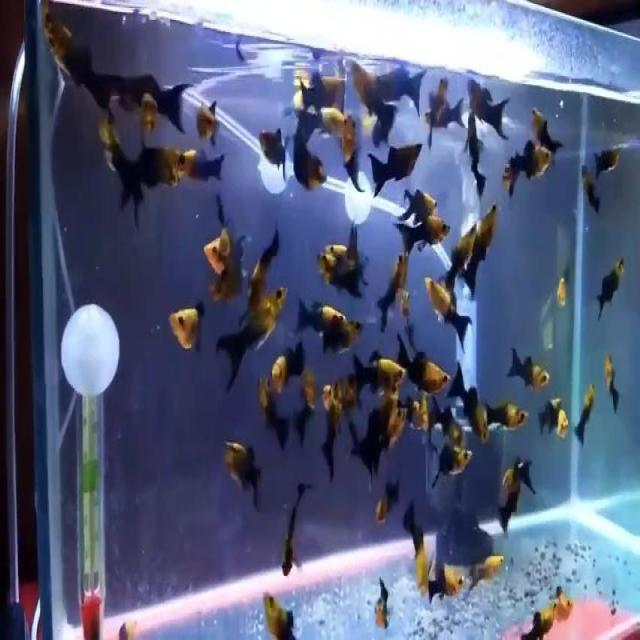PlatyFish: (420, 272, 478, 360), (348, 342, 413, 406), (364, 133, 425, 200), (290, 285, 350, 343), (501, 339, 554, 404)
